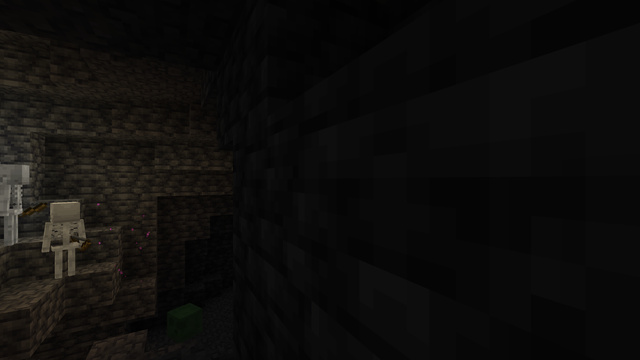slimes: (171, 301, 199, 343)
squelettes: (45, 201, 83, 281), (0, 164, 33, 246)
